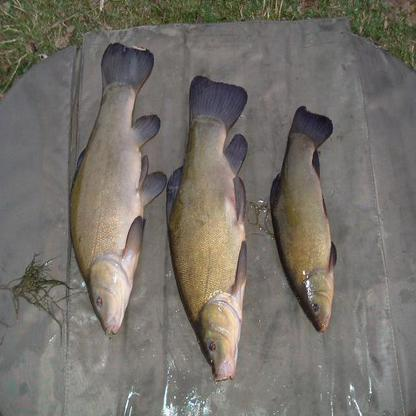fish: (69, 39, 166, 336), (167, 75, 249, 382), (269, 104, 338, 332)
